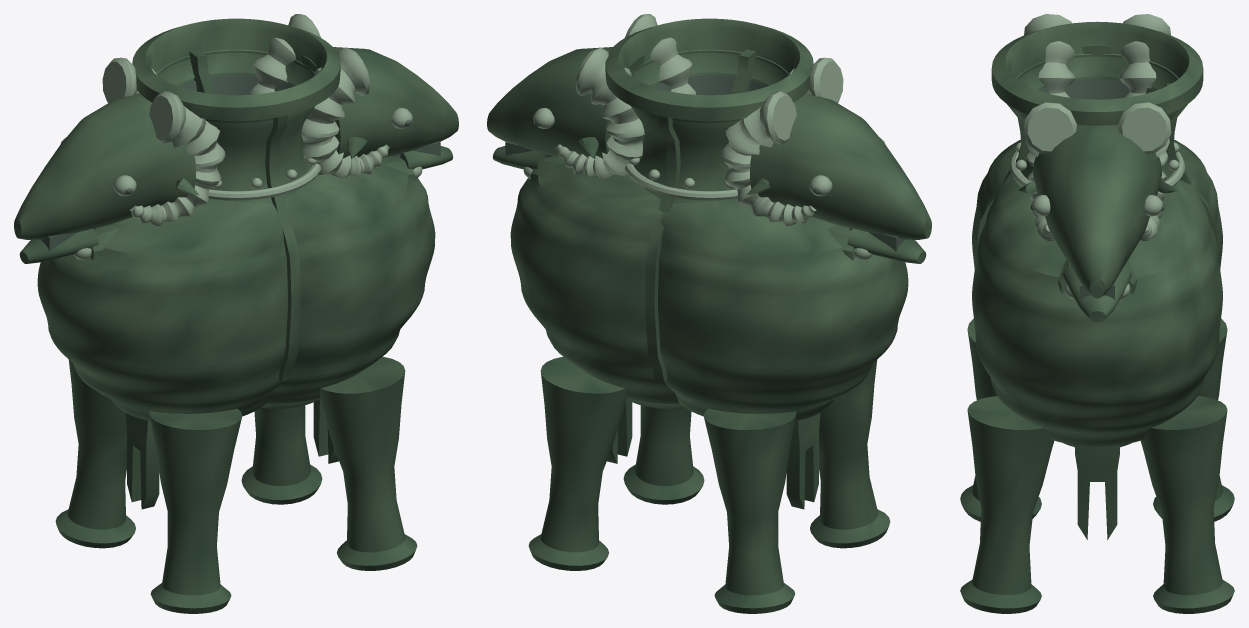
Rendered from ram_zun.glb.
3 views of the same model, side by side, from view 1: azimuth 30°, elevation 25°; view 2: azimuth 150°, elevation 25°; view 3: azimuth 270°, elevation 25° (orthographic).
Parts seen in each view (by area): view 1: ram_zun; view 2: ram_zun; view 3: ram_zun.
Boxes of the visible parts, bbox=[...] form: ram_zun: bbox=[14, 14, 458, 613]; ram_zun: bbox=[487, 14, 931, 613]; ram_zun: bbox=[960, 14, 1234, 613].
Bounding box in the file's own units: 0.412 × 0.4431 × 0.221.
